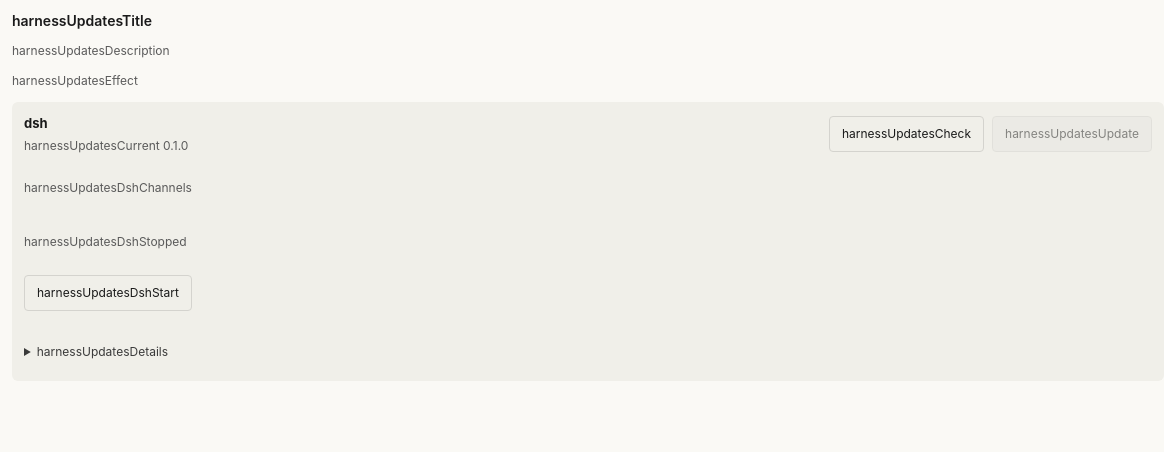
Test case: HarnessUpdates › starts a stopped DSH process only on request
This screenshot has width=1164, height=452.
Click the button "harnessUpdatesDshStart".
click(108, 293)  # box top-left (24, 275), bottom-right (192, 311)
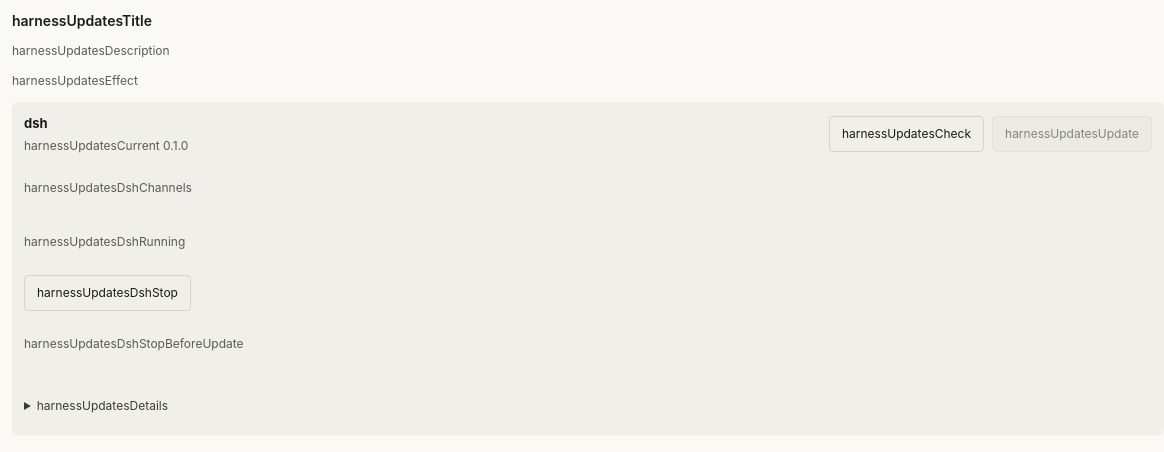
Expected: the text "harnessUpdatesDshRunning" is shown, top-left (24, 234), bottom-right (185, 249)
